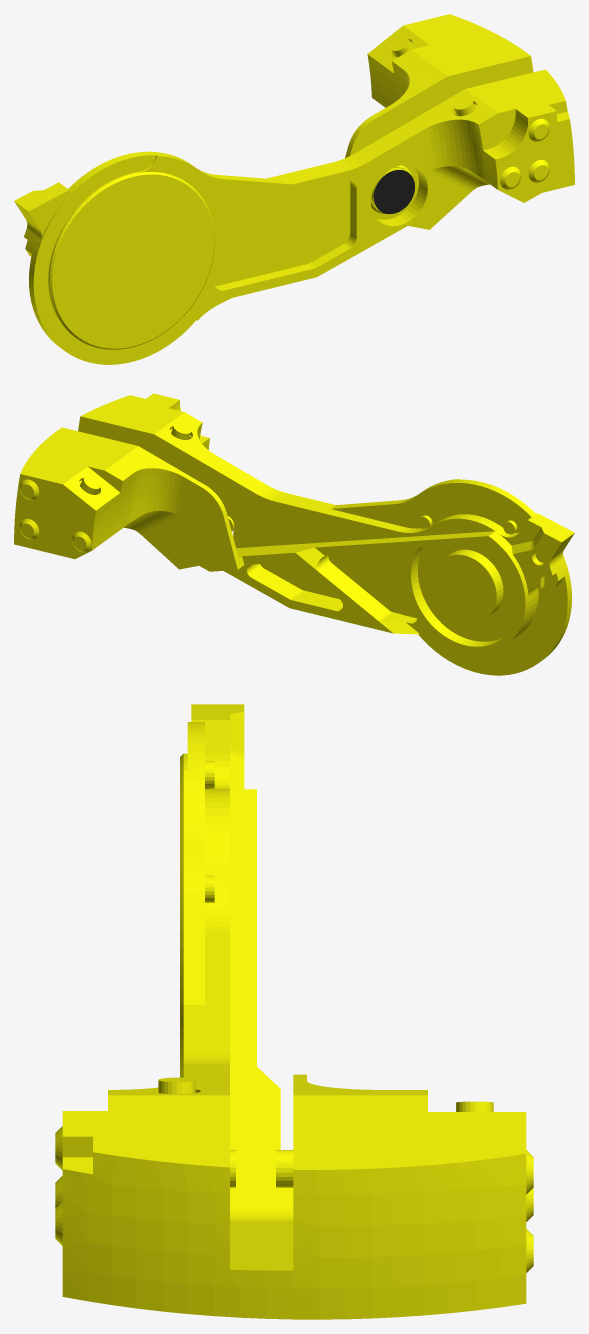
3 views of the same model, one above another, from view 1: azimuth 30°, elevation 25°; view 2: azimuth 150°, elevation 25°; view 3: azimuth 270°, elevation 25° (orthographic). The views are drawn at different scales.
Visible parts, largest first — view 1: node; view 2: node; view 3: node.
Boxes of the visible parts, x1,y1,x2,y2 form: node: [14, 14, 574, 364]; node: [14, 393, 574, 675]; node: [55, 704, 533, 1319].
Bounding box in the file's own units: 1508 × 548 × 633.
